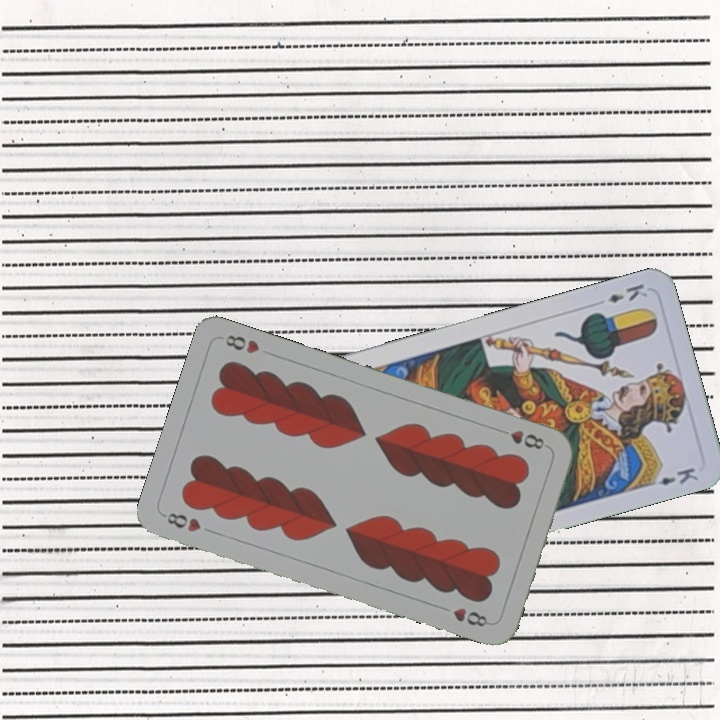EK: (603, 279, 650, 306)
H8: (160, 508, 204, 535), (506, 426, 547, 453)
